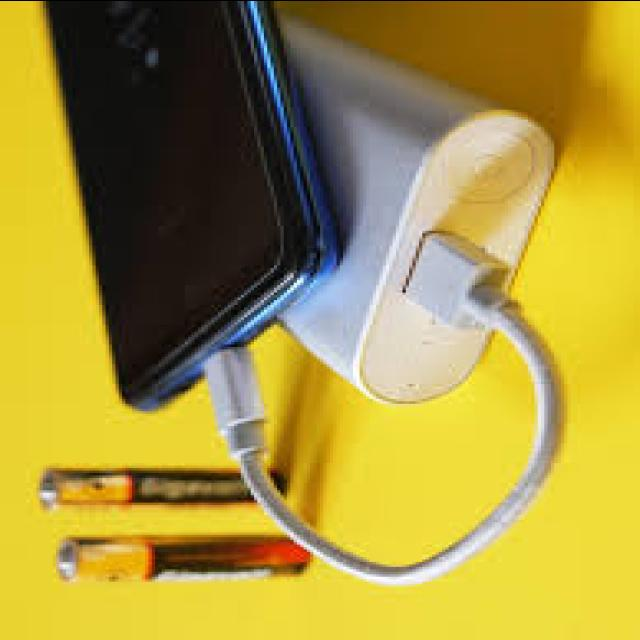power_bank: (250, 0, 564, 410)
